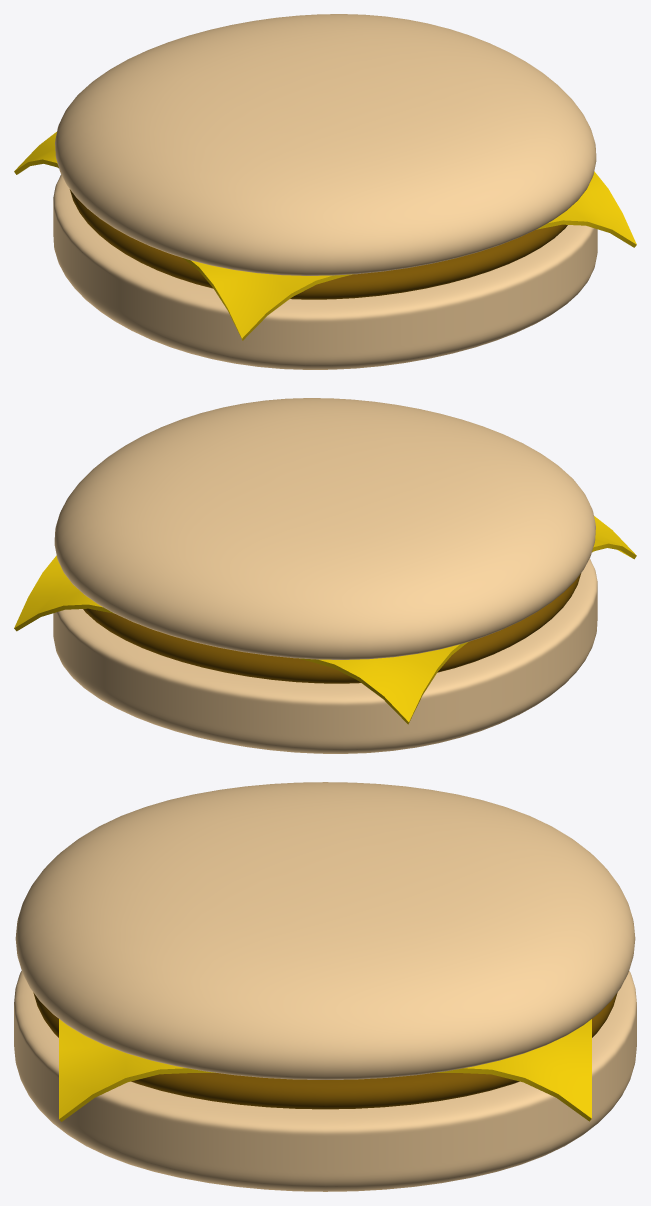
File: hamburger.glb
3 views of the same model, one above another, from view 1: azimuth 30°, elevation 25°; view 2: azimuth 150°, elevation 25°; view 3: azimuth 270°, elevation 25° (orthographic). The views are drawn at different scales.
Visible parts, largest first — view 1: Cube.002, Cube, Cube.001, Plan; view 2: Cube.002, Cube, Cube.001, Plan; view 3: Cube.002, Cube, Plan, Cube.001.
Part boxes in pixels (bbox=[...]): Cube.002: bbox=[55, 14, 596, 275]; Cube: bbox=[53, 174, 597, 369]; Cube.001: bbox=[69, 189, 567, 299]; Plan: bbox=[14, 132, 636, 340]; Cube.002: bbox=[54, 398, 595, 659]; Cube: bbox=[53, 558, 597, 753]; Cube.001: bbox=[83, 573, 581, 683]; Plan: bbox=[14, 516, 636, 724]; Cube.002: bbox=[15, 782, 635, 1079]; Cube: bbox=[14, 971, 636, 1191]; Plan: bbox=[59, 1019, 591, 1121]; Cube.001: bbox=[33, 992, 617, 1109].
Size of the model in its own units: 9.23 by 3.71 by 9.23.
